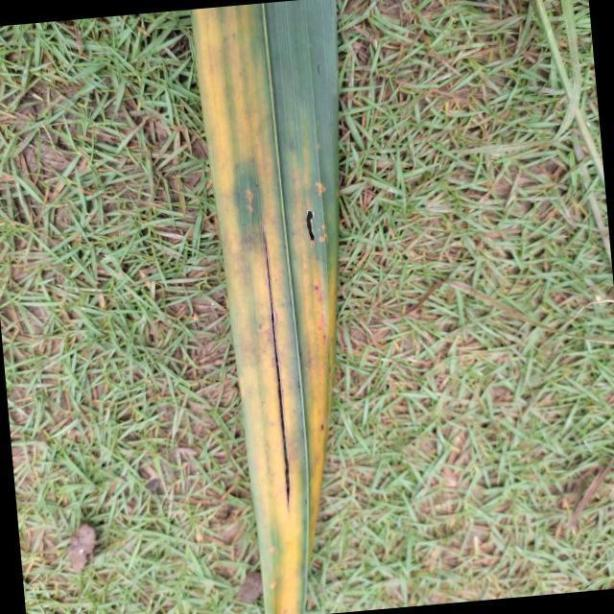Megnesium: (189, 0, 340, 614)
